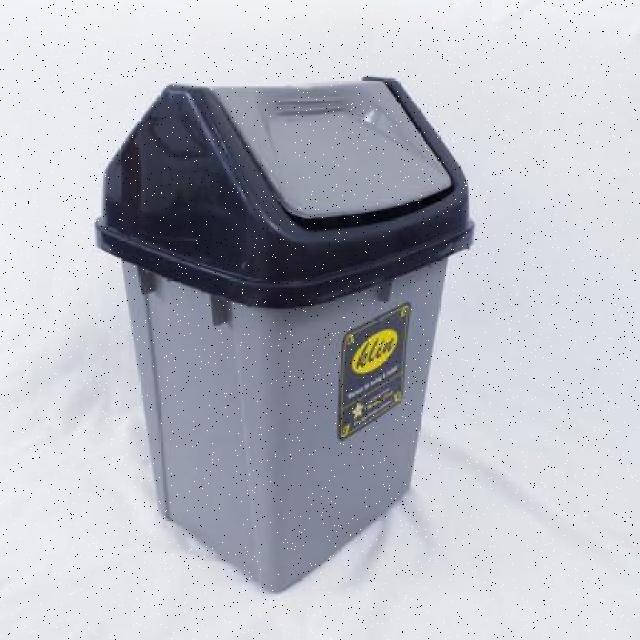garbage container: (87, 65, 492, 614)
